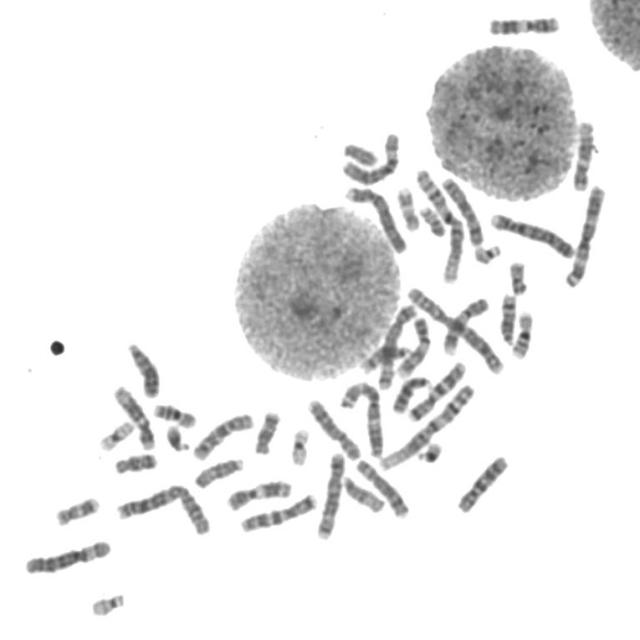A1: (377, 379, 478, 472), (412, 163, 468, 285)
A2: (402, 280, 508, 376), (112, 477, 215, 536)
A3: (560, 179, 610, 288), (336, 375, 388, 459)
B4: (340, 180, 411, 254), (486, 206, 579, 259)
B5: (374, 297, 420, 391), (312, 446, 348, 540)
C10: (453, 448, 512, 515), (188, 407, 257, 462)
C11: (222, 473, 296, 512), (484, 9, 564, 36)
C12: (110, 378, 158, 452), (569, 114, 598, 192)
C6: (20, 533, 115, 576), (338, 126, 404, 187)
C7: (404, 354, 470, 423), (237, 487, 321, 533)
C8: (352, 453, 414, 519), (304, 393, 364, 461)
C9: (440, 293, 492, 357), (394, 310, 434, 379)
D13: (123, 335, 163, 399), (388, 370, 434, 414)
D14: (356, 339, 414, 374), (496, 288, 520, 346)
D15: (338, 470, 388, 514), (191, 452, 247, 489)
E16: (150, 398, 200, 430), (508, 305, 537, 360)
E17: (51, 490, 103, 528), (393, 182, 423, 232)
E18: (250, 404, 284, 455), (110, 447, 160, 475)
F19: (96, 414, 138, 452), (286, 422, 313, 468)
F20: (416, 200, 448, 238), (506, 255, 532, 296)
G21: (162, 419, 194, 452), (412, 435, 446, 465)
G22: (87, 586, 128, 618), (470, 238, 505, 266)
X: (438, 170, 488, 247)
Y: (339, 136, 380, 166)
